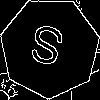S: (24, 23, 67, 76)
